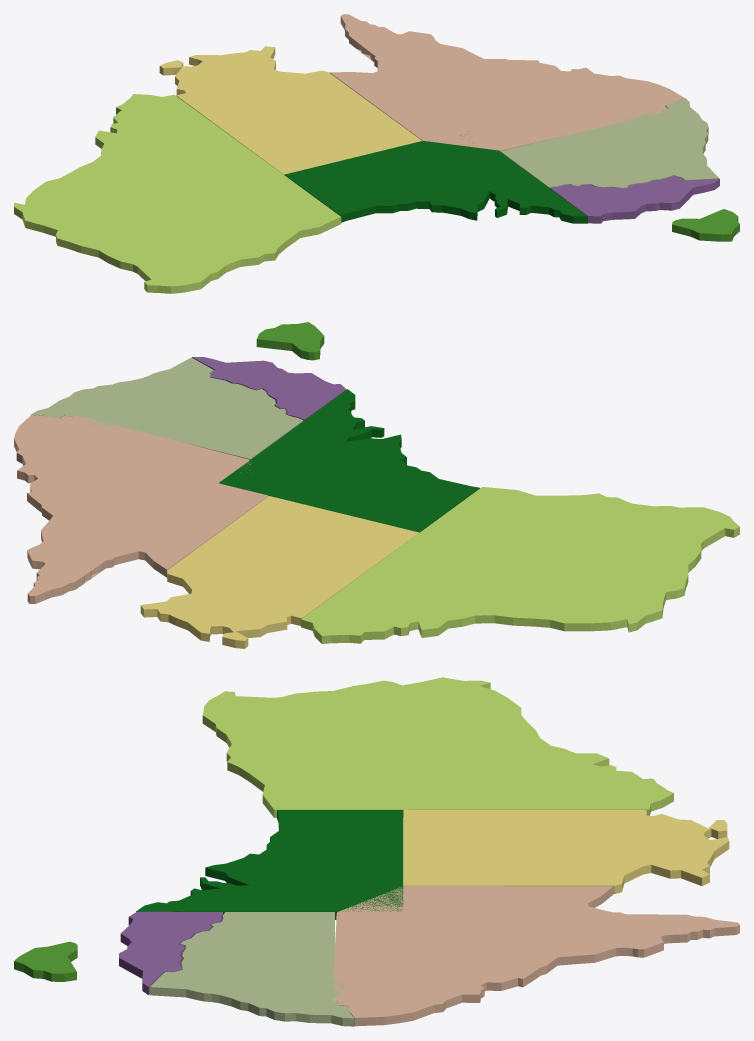
File: australia.fbx
3 renders of one model, top to bottom at view 1: azimuth 30°, elevation 25°; view 2: azimuth 150°, elevation 25°; view 3: azimuth 270°, elevation 25°, orthographic. The views are drawn at different scales.
Parts seen in each view (by area): view 1: Tasmania; view 2: Tasmania; view 3: Tasmania.
Boxes of the visible parts, x1,y1,x2,y2 form: Tasmania: (14,14,739,293); Tasmania: (14,322,739,648); Tasmania: (14,677,739,1026).
Size of the model in its own units: 883 by 10 by 794.
